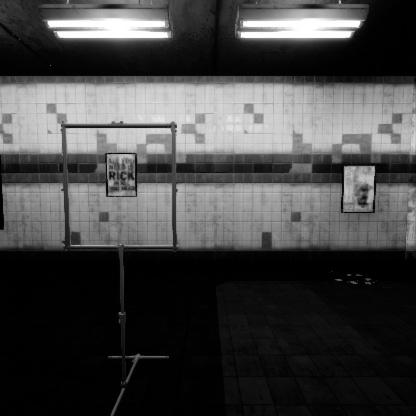gate: (61, 164, 187, 293)
